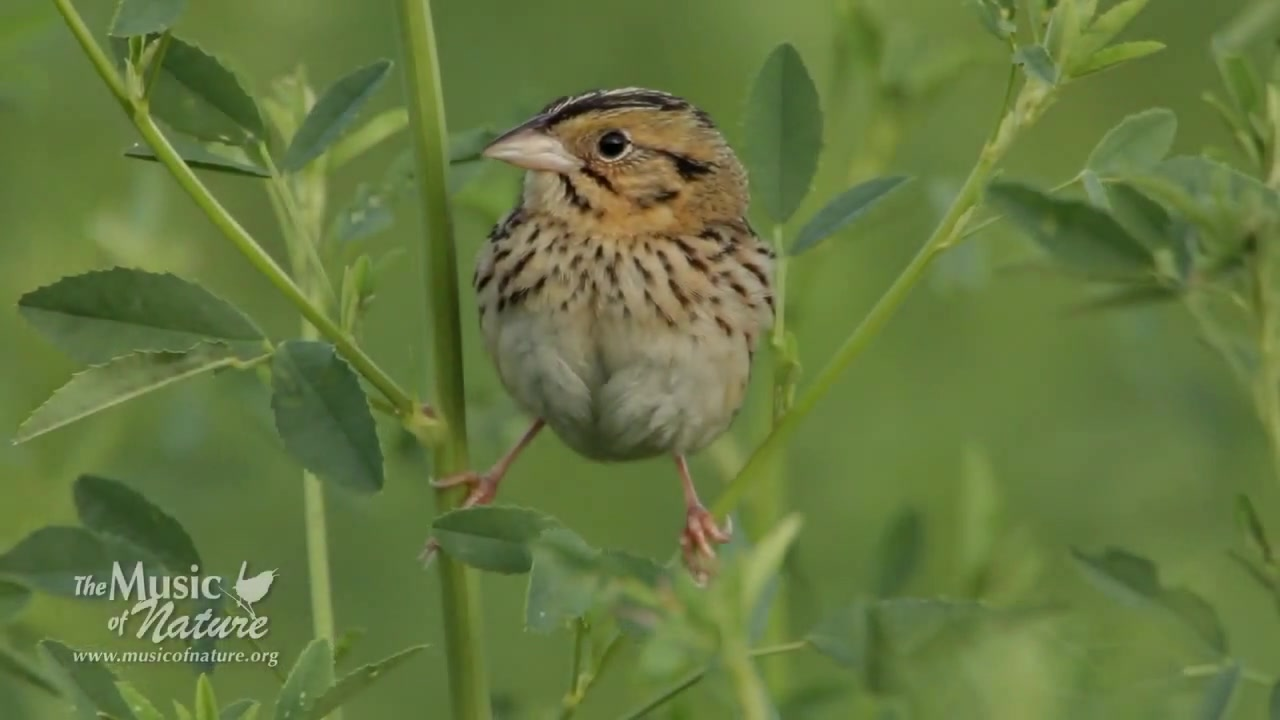bird: (428, 87, 778, 585)
